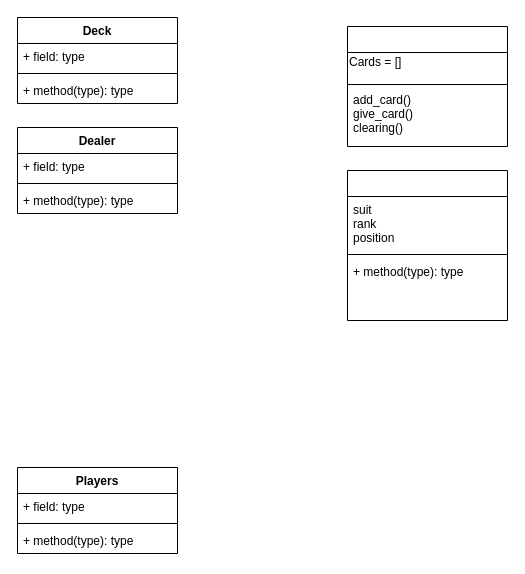
Some shapes in this 525 by 574 pixel diagram are drawn without their labels. The box of each missing label's shape, as (x1, y1, x2, y2) in pixels:
Card: (346, 170, 508, 320)
Hand: (346, 26, 508, 146)
